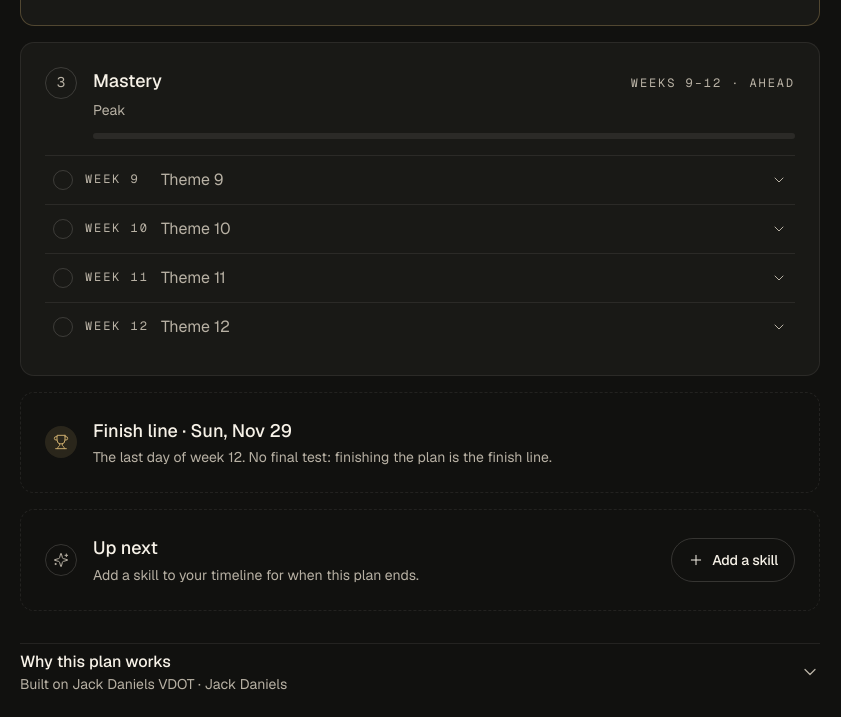
Test case: the Roadmap (ND-33: progress at a glance, the whole plan with its details folded) › ends with the finish line and, on request, why the plan works
(page scrolled)
Check: the heading "Finish line · Sun, Nov 29" is shown, box [93,419,292,442]
Check: the text "The last day of week 12. No final test" is shown, box [93,447,552,468]
Click the button "Why this plan works": (95, 661) [20,644,820,700]
(page scrolled)
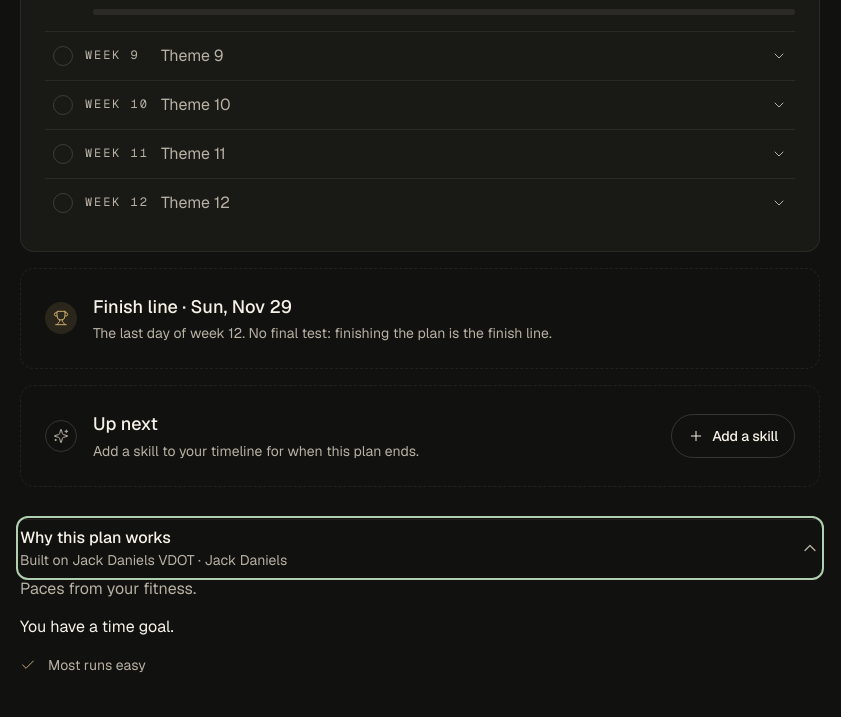
Check: the text "You have a time goal." is shown, box [20,616,174,637]
Check: the list item "Most runs easy" is shown, box [20,656,146,674]
